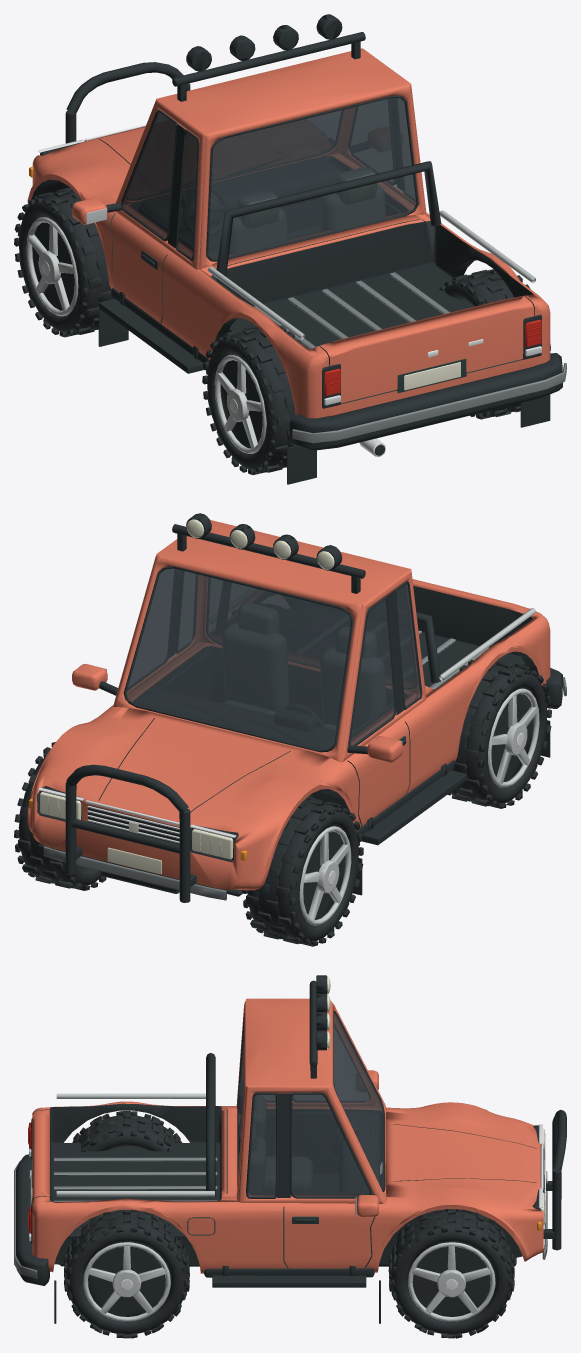
File: drover_lod2.fbx
3 renders of one model, top to bottom at view 1: azimuth 30°, elevation 25°; view 2: azimuth 150°, elevation 25°; view 3: azimuth 270°, elevation 25°, orthographic. The views are drawn at different scales.
Parts seen in each view (by area): view 1: Body, Wheel_RL_Mesh, Wheel_FL_Mesh, Wheel_RR_Mesh; view 2: Body, Wheel_FL_Mesh, Wheel_RL_Mesh, Wheel_FR_Mesh; view 3: Body, Wheel_FR_Mesh, Wheel_RR_Mesh, Wheel_RL_Mesh.
Boxes of the visible parts, x1,y1,x2,y2 form: Body: (27,14,566,484); Wheel_RL_Mesh: (202,324,302,474); Wheel_FL_Mesh: (14,187,112,337); Wheel_RR_Mesh: (439,269,550,419); Body: (27,513,566,902); Wheel_FL_Mesh: (242,797,363,946); Wheel_RL_Mesh: (447,657,551,808); Wheel_FR_Mesh: (14,742,106,890); Body: (14,975,566,1323); Wheel_FR_Mesh: (388,1209,514,1338); Wheel_RR_Mesh: (64,1210,189,1338); Wheel_RL_Mesh: (72,1111,182,1151).
Size of the model in its own units: 237 by 227 by 409.
